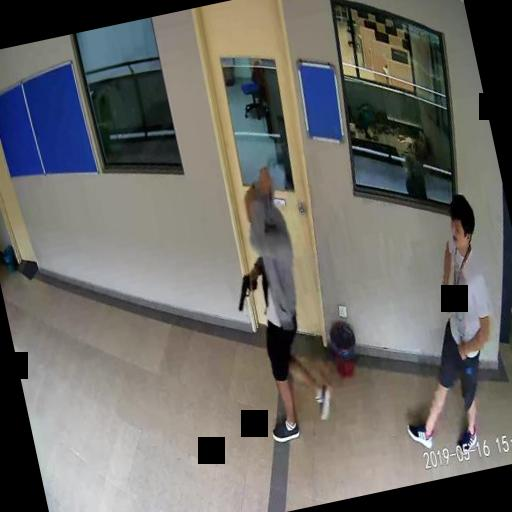Handgun: (229, 269, 261, 312)
